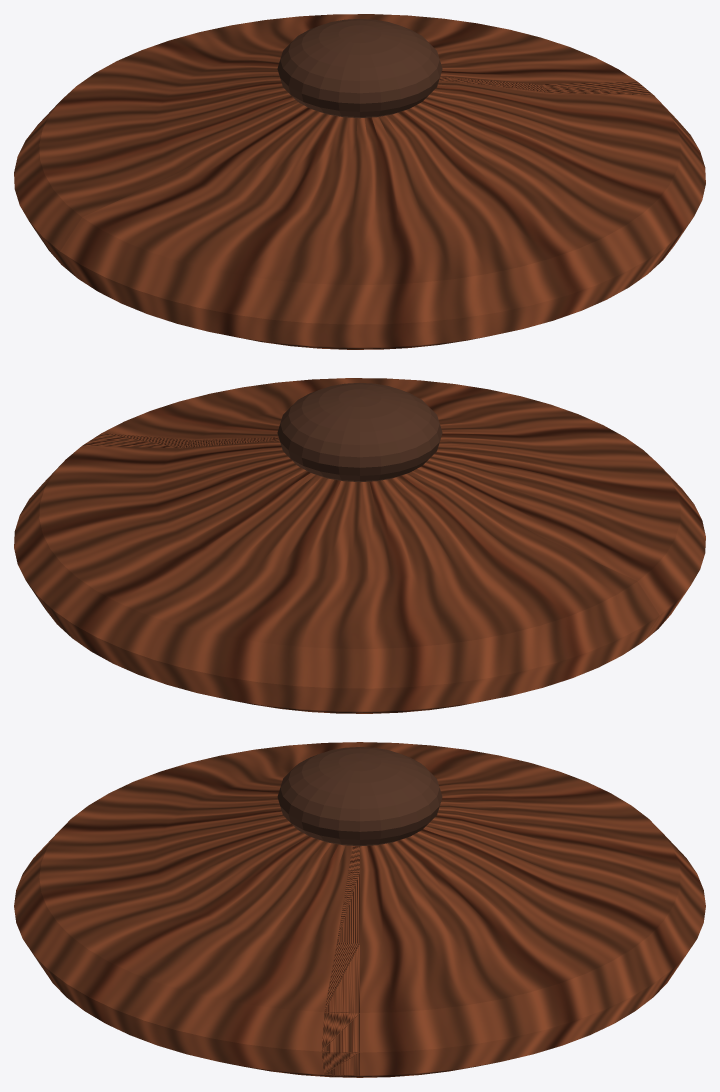
The model's file is BowlLid_Gameplay.glb.
3 views of the same model, one above another, from view 1: azimuth 30°, elevation 25°; view 2: azimuth 150°, elevation 25°; view 3: azimuth 270°, elevation 25° (orthographic).
Visible parts, largest first — view 1: BowlLid_Gameplay, BowlLid_Grip_Gameplay; view 2: BowlLid_Gameplay, BowlLid_Grip_Gameplay; view 3: BowlLid_Gameplay, BowlLid_Grip_Gameplay.
Part boxes in pixels (x1,y1,x2,y2): BowlLid_Gameplay: [14, 14, 705, 349]; BowlLid_Grip_Gameplay: [277, 19, 442, 118]; BowlLid_Gameplay: [14, 378, 705, 713]; BowlLid_Grip_Gameplay: [277, 383, 442, 482]; BowlLid_Gameplay: [14, 742, 705, 1077]; BowlLid_Grip_Gameplay: [277, 747, 442, 846].
Size of the model in its own units: 0.436 by 0.141 by 0.436.
2 materials, 1 textured.
